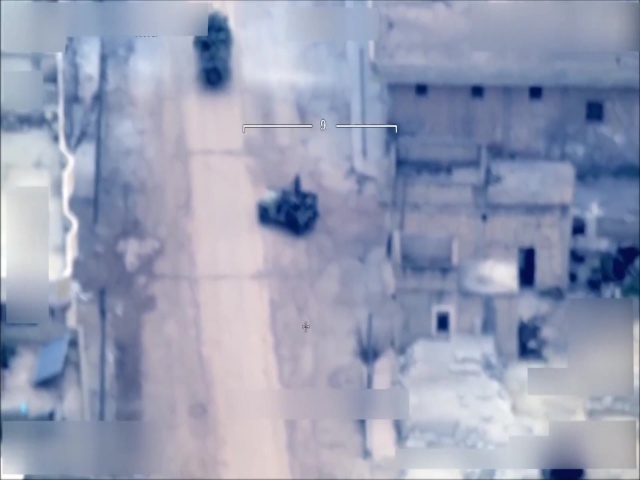vehicle: (255, 174, 321, 235)
